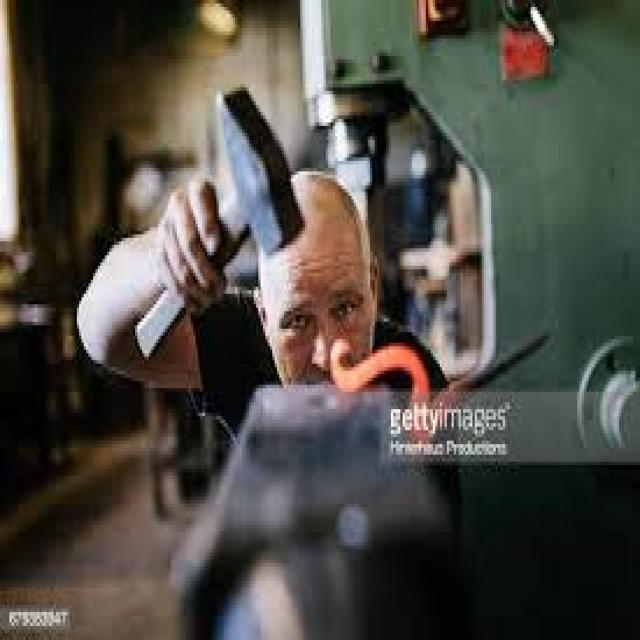hammer: (135, 70, 305, 371)
